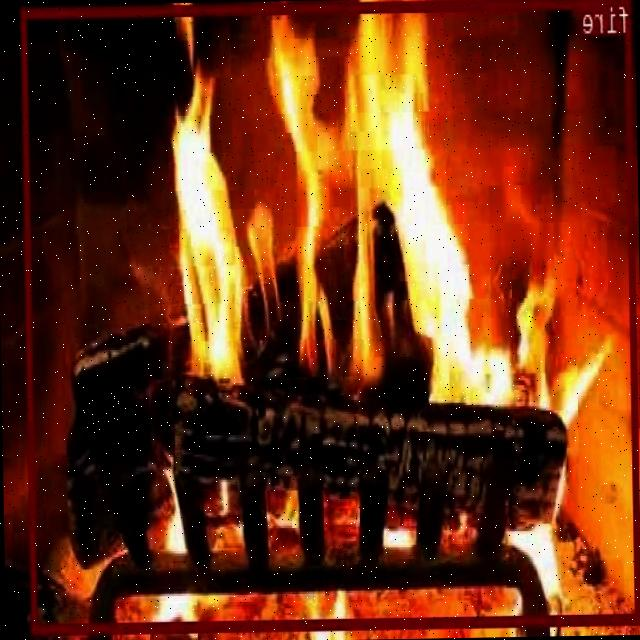fire: (22, 0, 640, 632)
